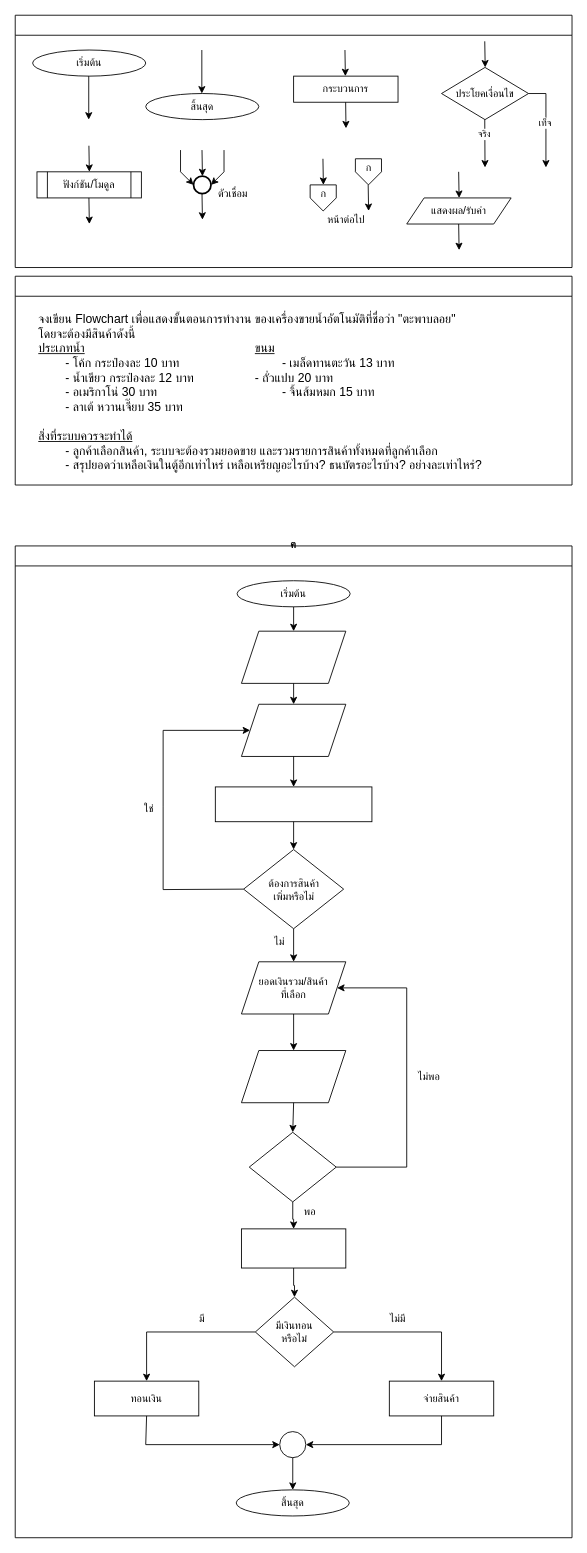
The diagram is 587 pixels wide and 1553 high, and some of its shapes have lost their labels. Each missing label, with the box of its shape:
คำนวนเงินทอน: (241, 1228, 346, 1268)
ทบทวนสัญลักษณ์: (14, 14, 572, 268)
บันทึกสินค้าและคำนวนยอดรวม: (214, 786, 372, 822)
สินค้าที่เลือก: (241, 703, 346, 756)
เงินที่หยอด: (241, 1050, 346, 1103)
เงินที่หยอด พอหรือไม่: (248, 1131, 336, 1202)
แสดงสินค้า/ราคา: (241, 630, 346, 683)
โจทย์ปัญหา: (14, 275, 572, 485)
